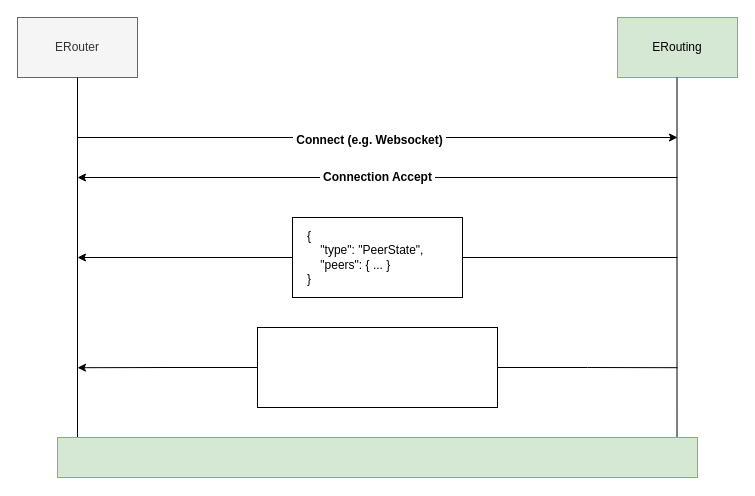
Some shapes in this 755 by 496 pixel diagram are drawn without their labels. Each missing label, with the box of its shape:
Ready for further packets: (56, 436, 698, 478)
{ "type": "ServiceState", "services": { ... } }: (256, 326, 498, 408)
